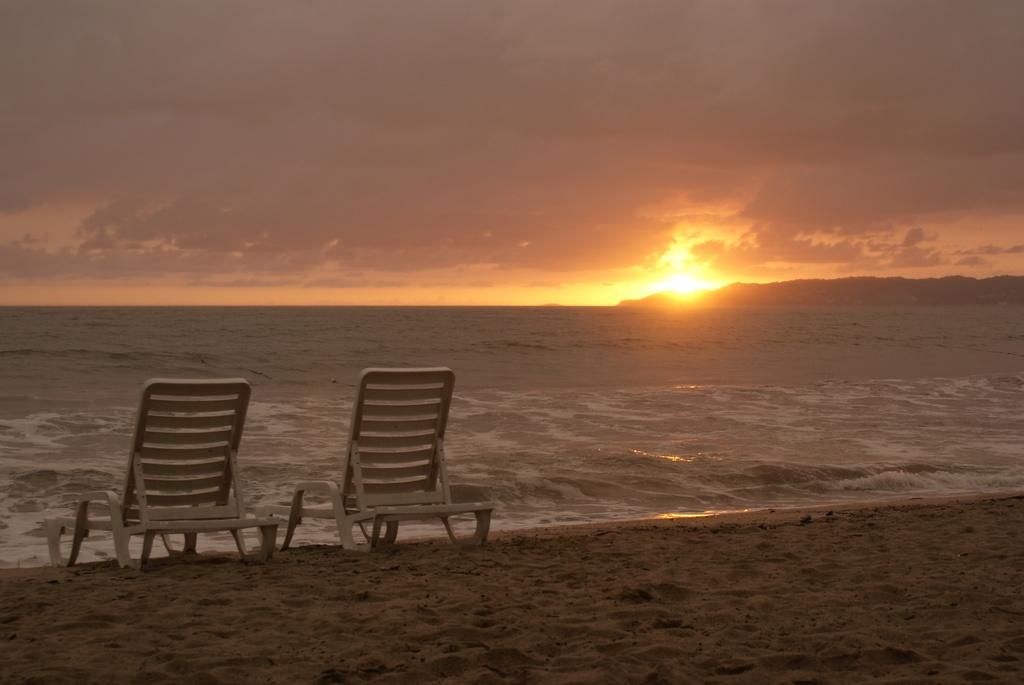Chair: (269, 365, 500, 557), (72, 393, 273, 587)
